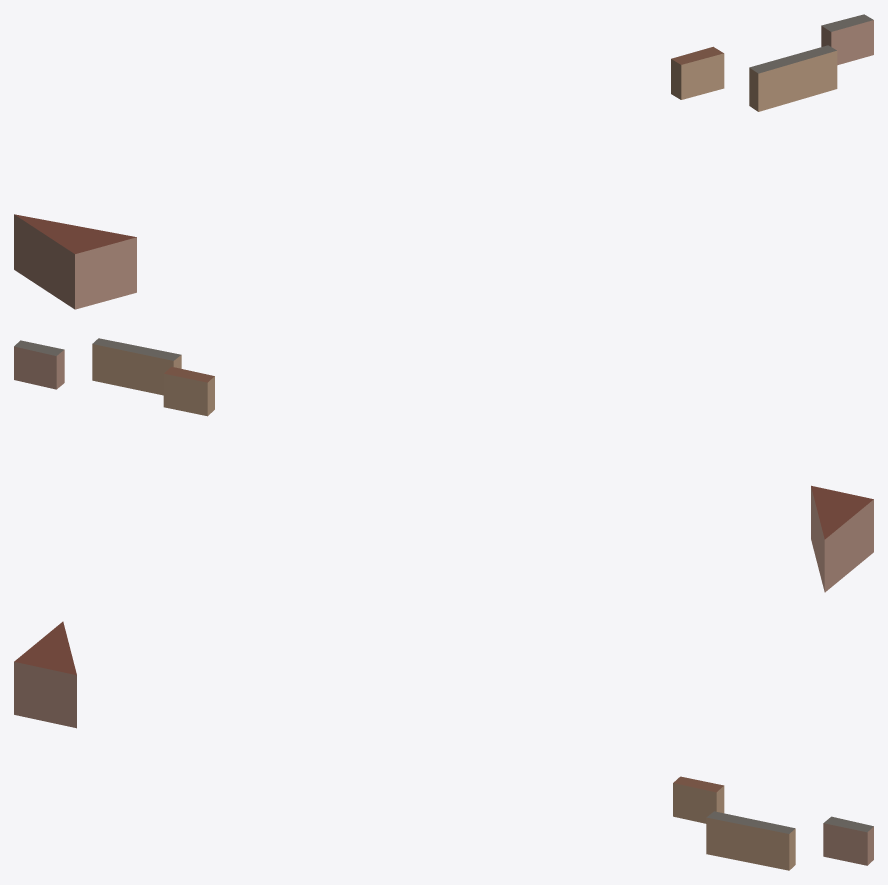
The model's file is SM_Fondale_Citta_SE_01.fbx.
3 renders of one model, top to bottom at view 1: azimuth 30°, elevation 25°; view 2: azimuth 150°, elevation 25°; view 3: azimuth 330°, elevation 25°, orthographic. The views are drawn at different scales.
Parts seen in each view (by area): view 1: SM_Fondale_Citta_SE_01; view 2: SM_Fondale_Citta_SE_01; view 3: SM_Fondale_Citta_SE_01.
Boxes of the visible parts, left/top/right/bottom form: SM_Fondale_Citta_SE_01: left=14, top=14, right=873, bottom=309; SM_Fondale_Citta_SE_01: left=14, top=338, right=873, bottom=592; SM_Fondale_Citta_SE_01: left=14, top=621, right=873, bottom=870.
Bounding box in the file's own units: 28358 × 3249 × 1798.
